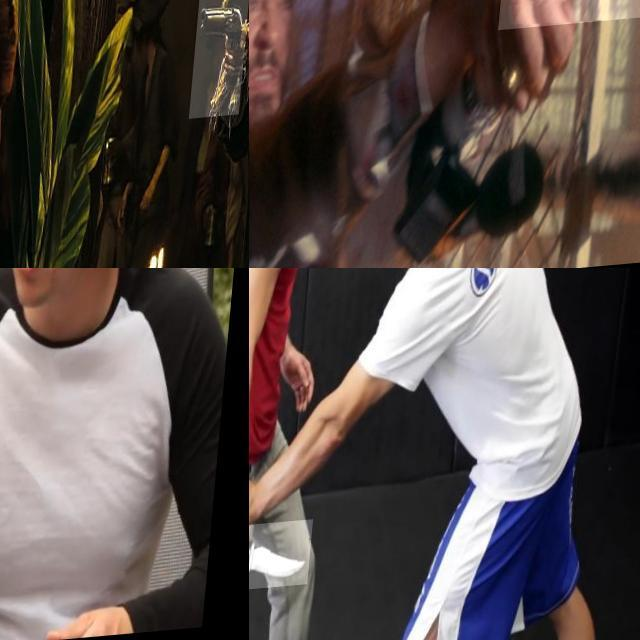-: (0, 268, 66, 481), (249, 524, 321, 596)
gun-knife-thesis - v11 Yolov5 augmented: (505, 0, 640, 128), (194, 0, 249, 125)
